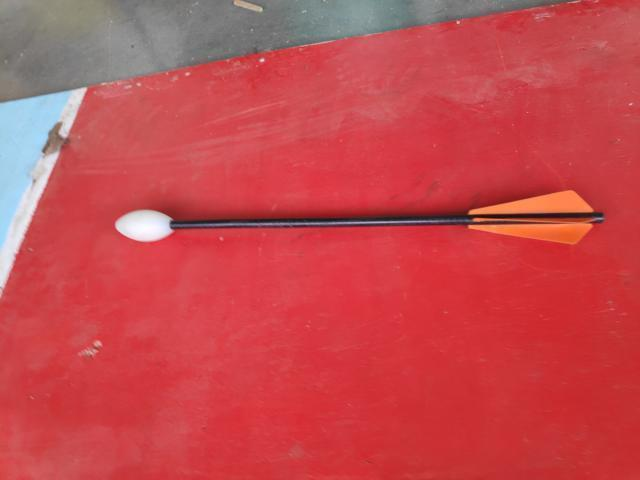Head: (114, 207, 174, 244)
Tail: (466, 188, 608, 247)
